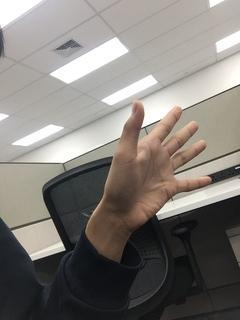hand: (106, 100, 211, 234)
